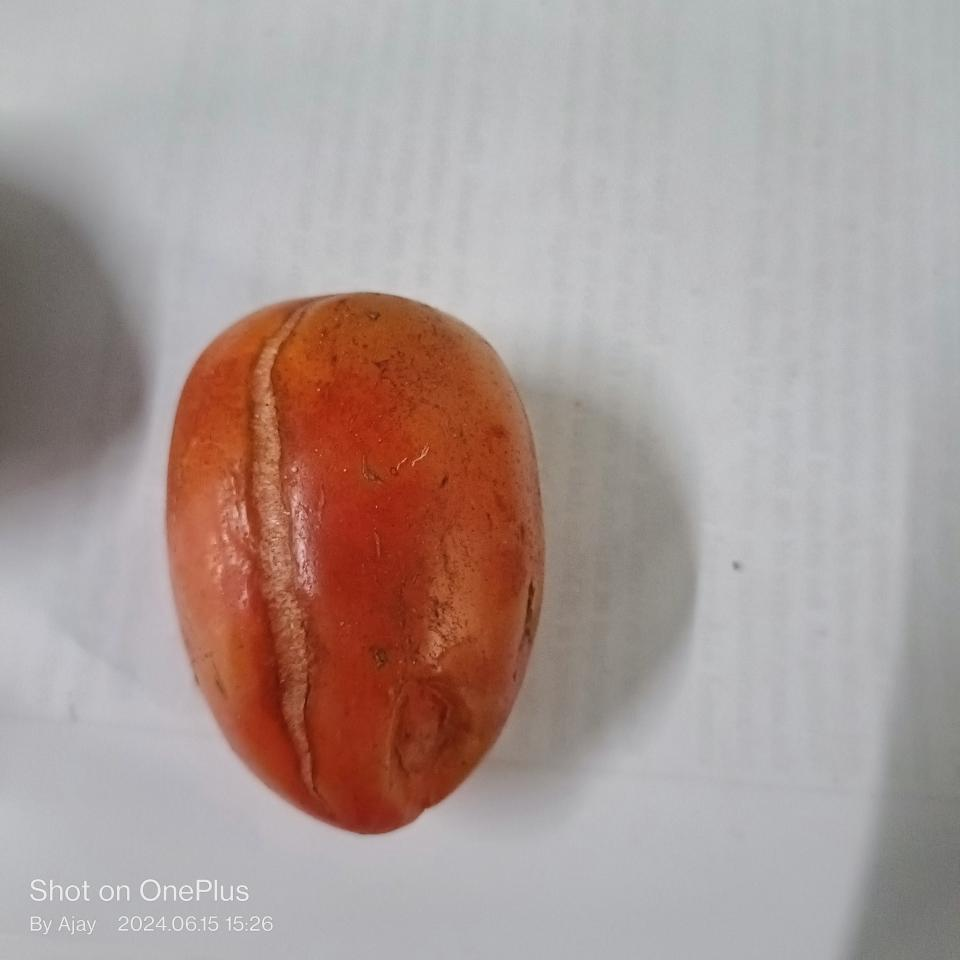Cracking: (240, 280, 327, 784)
